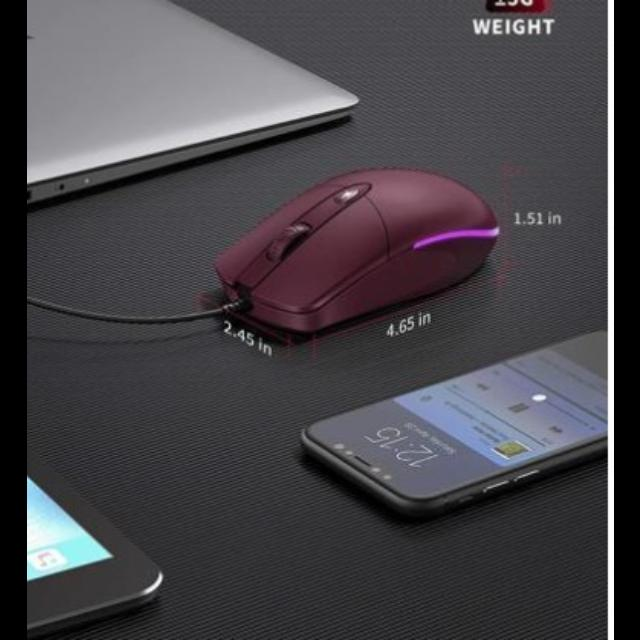Computer-Mouse: (214, 170, 499, 338)
